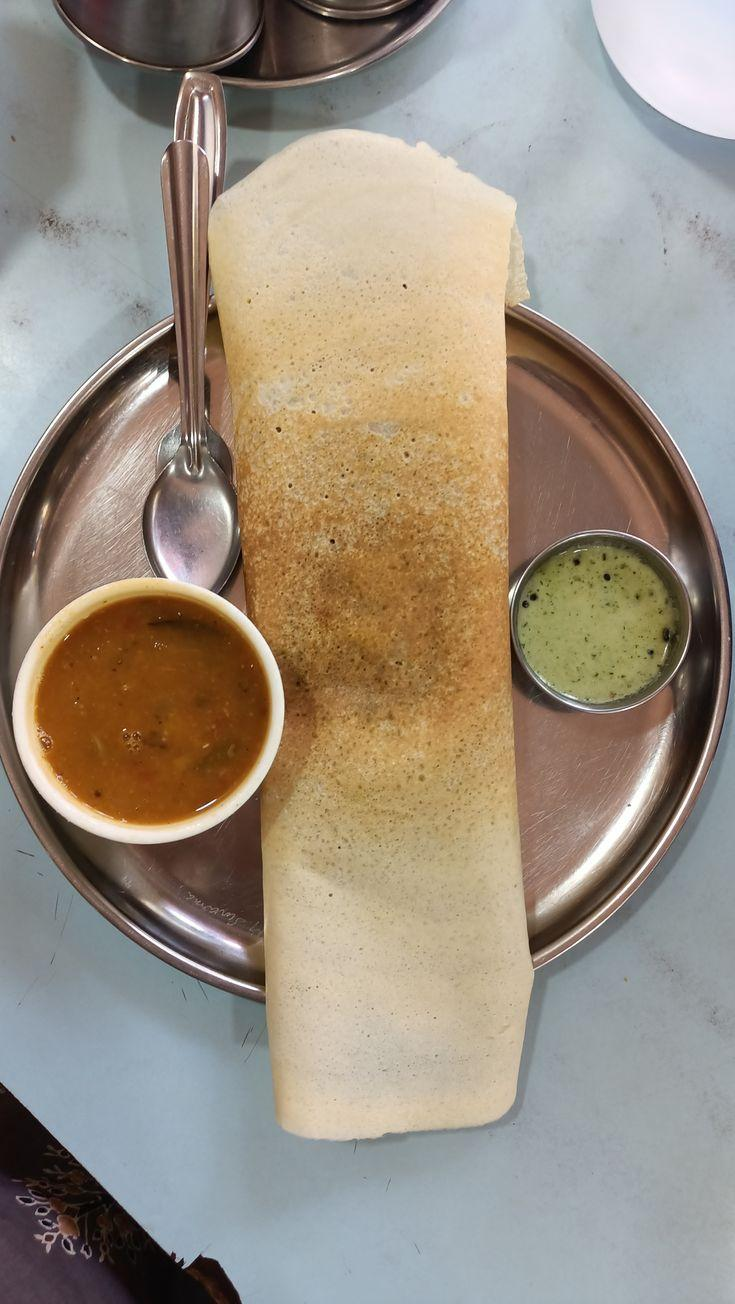dosa: (208, 142, 562, 1152)
